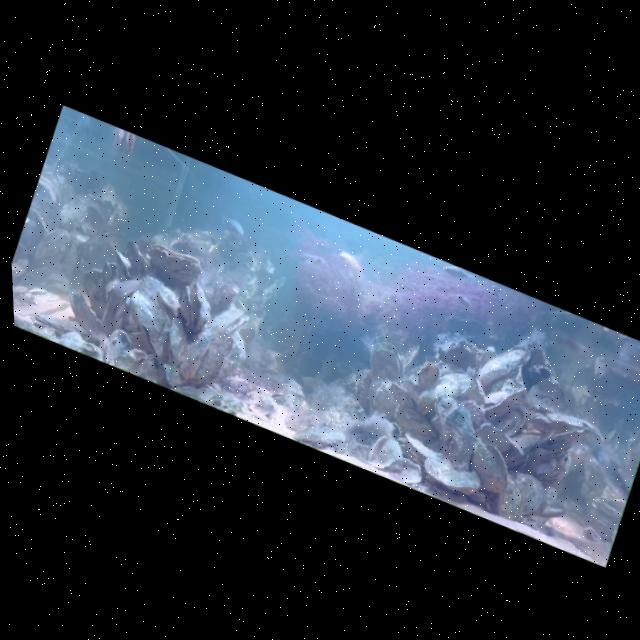Oyster-Closed: (114, 269, 191, 366), (415, 389, 492, 474), (412, 358, 475, 430), (473, 333, 534, 402), (417, 451, 485, 502), (195, 327, 240, 395), (498, 467, 552, 522), (478, 373, 529, 431), (29, 304, 93, 346), (173, 324, 216, 384), (489, 471, 535, 525), (156, 315, 198, 374), (399, 432, 456, 473), (388, 407, 440, 446), (455, 363, 497, 409), (104, 247, 141, 285)
Oyster-Indeterminate: (25, 218, 78, 284), (67, 262, 120, 322), (526, 399, 595, 445), (541, 414, 593, 466), (433, 331, 487, 378), (213, 330, 253, 392), (15, 207, 55, 259), (116, 238, 160, 285), (490, 395, 533, 441), (60, 286, 103, 331), (453, 395, 493, 436), (166, 229, 212, 264), (473, 419, 515, 457), (385, 453, 427, 490), (99, 326, 134, 370), (507, 420, 545, 458), (411, 357, 444, 395), (384, 382, 421, 412)
Oyster-Open: (458, 433, 522, 500), (142, 239, 206, 291), (172, 278, 221, 337), (362, 335, 414, 389), (363, 431, 409, 477), (206, 300, 252, 342), (31, 174, 69, 213), (268, 388, 291, 407)
